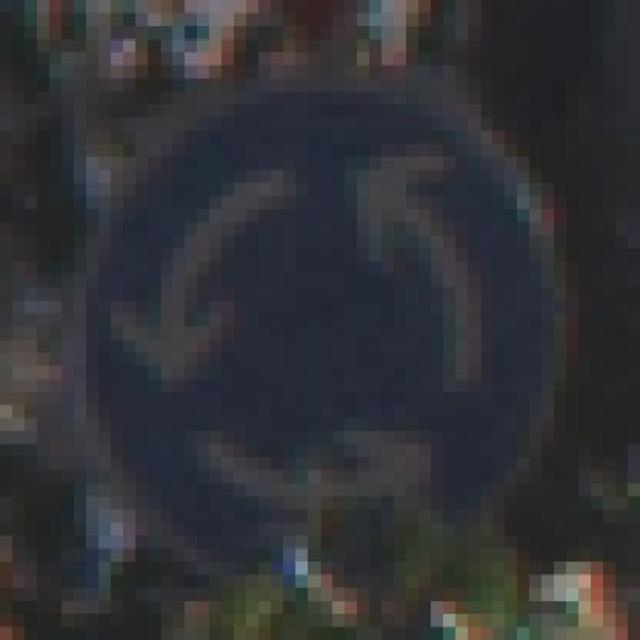Round-About: (62, 65, 616, 601)
